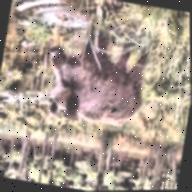boar: (32, 25, 168, 144)
